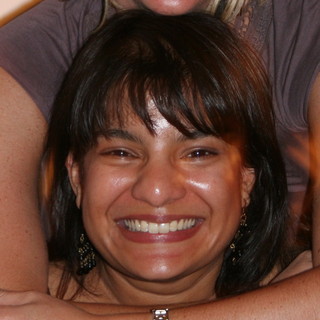eye: (175, 144, 221, 165), (95, 145, 142, 164)
